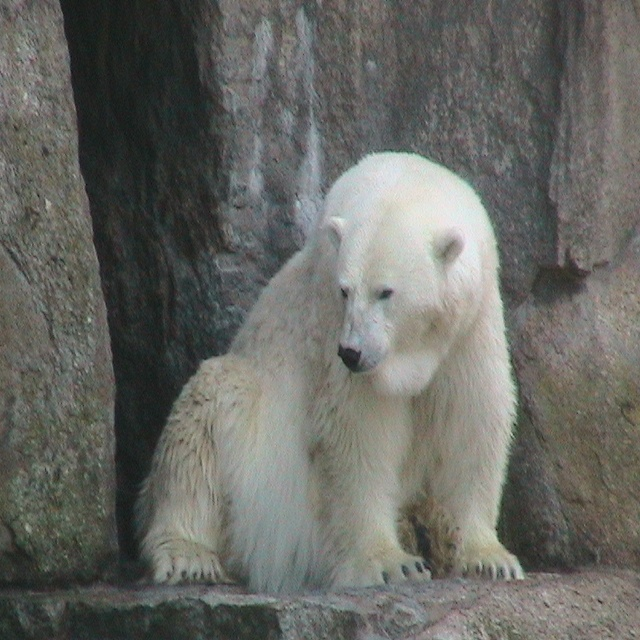Polar bear: (133, 151, 525, 594)
